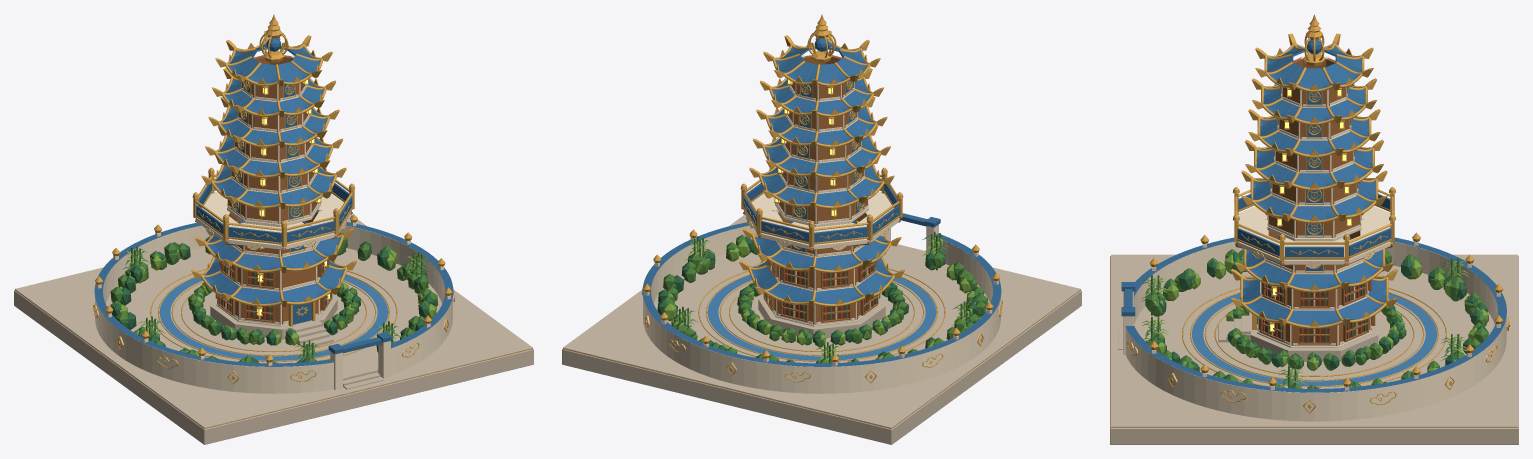
The model's file is city-5.glb.
The picture shows the model from 3 angles, left to right: view 1: azimuth 30°, elevation 25°; view 2: azimuth 150°, elevation 25°; view 3: azimuth 270°, elevation 25°; orthographic projection. The views are drawn at different scales.
Parts seen in each view (by area): view 1: SM_CT5_V4_Batch_2.002, SM_CT5_V4_Batch_69.002, SM_CT5_V4_Batch_3.002, SM_CT5_V4_Batch_0.002, SM_CT5_V4_Batch_79.002, SM_CT5_V4_Batch_70.002, SM_CT5_V4_Batch_81.002, SM_CT5_V4_Batch_5.002, SM_CT5_V4_Batch_15.002, SM_CT5_V4_Batch_96.002, SM_CT5_V4_Batch_26.002, SM_CT5_V4_Batch_59.002 (+33 smaller); view 2: SM_CT5_V4_Batch_2.002, SM_CT5_V4_Batch_69.002, SM_CT5_V4_Batch_3.002, SM_CT5_V4_Batch_0.002, SM_CT5_V4_Batch_79.002, SM_CT5_V4_Batch_70.002, SM_CT5_V4_Batch_5.002, SM_CT5_V4_Batch_81.002, SM_CT5_V4_Batch_15.002, SM_CT5_V4_Batch_4.002, SM_CT5_V4_Batch_96.002, SM_CT5_V4_Batch_80.002 (+29 smaller); view 3: SM_CT5_V4_Batch_2.002, SM_CT5_V4_Batch_69.002, SM_CT5_V4_Batch_3.002, SM_CT5_V4_Batch_0.002, SM_CT5_V4_Batch_79.002, SM_CT5_V4_Batch_70.002, SM_CT5_V4_Batch_5.002, SM_CT5_V4_Batch_81.002, SM_CT5_V4_Batch_15.002, SM_CT5_V4_Batch_66.002, SM_CT5_V4_Batch_4.002, SM_CT5_V4_Batch_59.002 (+41 smaller).
Part boxes in pixels (x1,y1,x2,y2): SM_CT5_V4_Batch_2.002: (15,214,532,428); SM_CT5_V4_Batch_69.002: (95,225,452,393); SM_CT5_V4_Batch_3.002: (106,247,441,379); SM_CT5_V4_Batch_0.002: (14,290,533,444); SM_CT5_V4_Batch_79.002: (110,233,438,363); SM_CT5_V4_Batch_70.002: (94,222,453,366); SM_CT5_V4_Batch_81.002: (111,232,435,363); SM_CT5_V4_Batch_5.002: (159,275,388,360); SM_CT5_V4_Batch_15.002: (204,258,344,303); SM_CT5_V4_Batch_96.002: (196,183,352,242); SM_CT5_V4_Batch_26.002: (207,221,341,269); SM_CT5_V4_Batch_59.002: (228,43,320,83); SM_CT5_V4_Batch_2.002: (563,214,1080,428); SM_CT5_V4_Batch_69.002: (643,225,1000,393); SM_CT5_V4_Batch_3.002: (654,249,989,363); SM_CT5_V4_Batch_0.002: (562,290,1081,444); SM_CT5_V4_Batch_79.002: (661,234,987,363); SM_CT5_V4_Batch_70.002: (642,222,1001,366); SM_CT5_V4_Batch_5.002: (707,275,936,360); SM_CT5_V4_Batch_81.002: (657,237,978,363); SM_CT5_V4_Batch_15.002: (751,258,891,303); SM_CT5_V4_Batch_4.002: (698,268,945,361); SM_CT5_V4_Batch_96.002: (743,183,899,242); SM_CT5_V4_Batch_80.002: (663,239,975,362); SM_CT5_V4_Batch_2.002: (1111,254,1517,427); SM_CT5_V4_Batch_69.002: (1125,242,1506,421); SM_CT5_V4_Batch_3.002: (1134,265,1494,388); SM_CT5_V4_Batch_0.002: (1110,256,1518,444); SM_CT5_V4_Batch_79.002: (1145,249,1488,388); SM_CT5_V4_Batch_70.002: (1125,237,1506,392); SM_CT5_V4_Batch_5.002: (1192,293,1436,385); SM_CT5_V4_Batch_81.002: (1153,252,1488,388); SM_CT5_V4_Batch_15.002: (1242,277,1386,325); SM_CT5_V4_Batch_66.002: (1236,206,1392,264); SM_CT5_V4_Batch_4.002: (1182,288,1446,387); SM_CT5_V4_Batch_59.002: (1267,45,1361,88).
Size of the model in its own units: 10 by 9.31 by 10.
15 materials, 5 textured.
